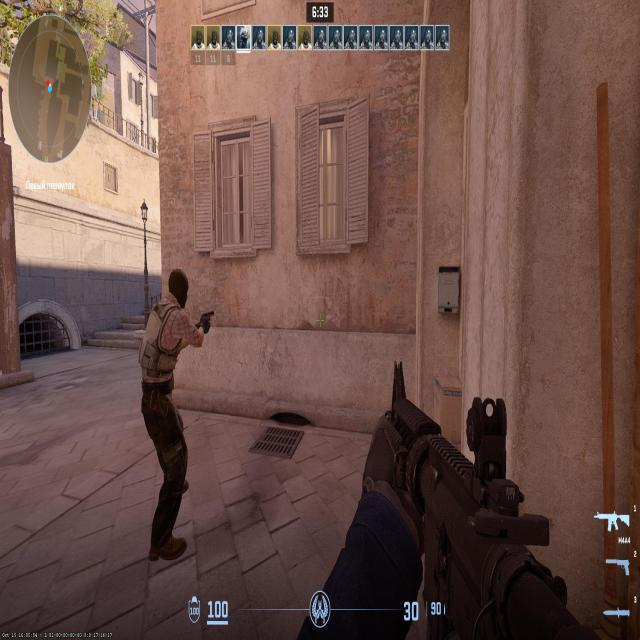T: (153, 278, 186, 520), (168, 282, 177, 322)
